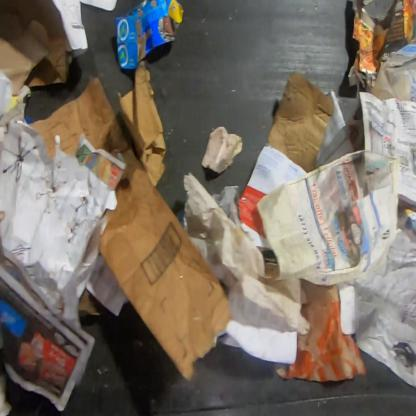cardboard: (27, 78, 231, 381), (266, 71, 335, 176), (0, 1, 72, 97), (117, 61, 167, 186), (117, 0, 185, 70)
rigid_plastic: (370, 35, 415, 102)
soft_plastic: (0, 69, 14, 117)
